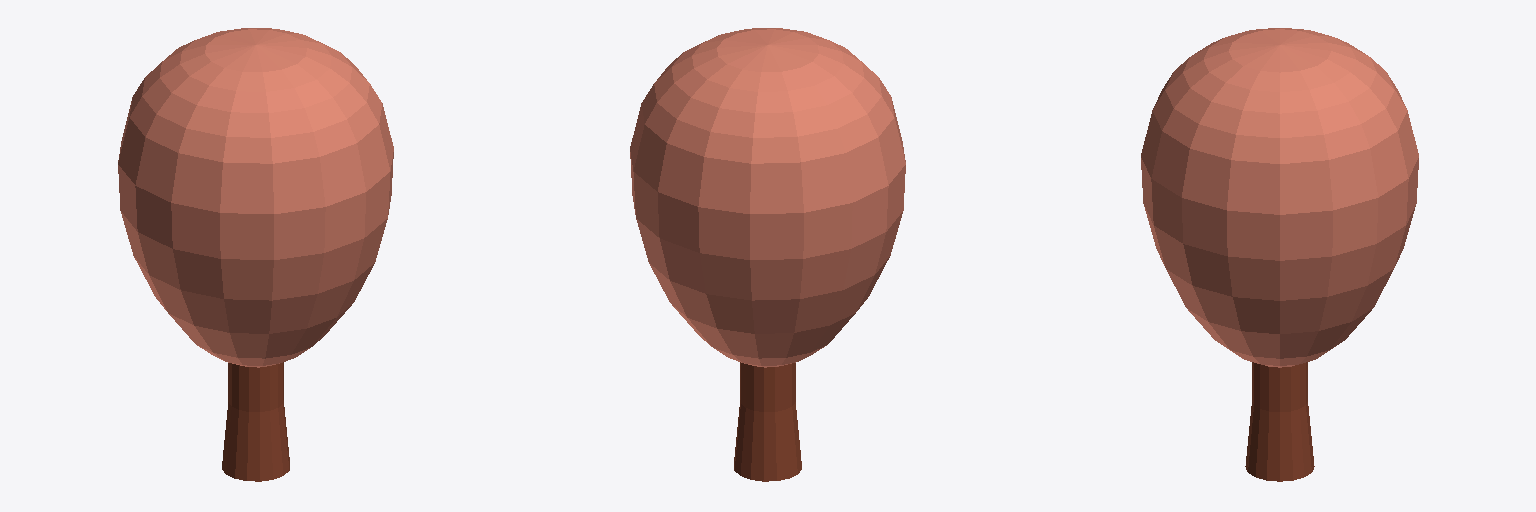
File: Prop_Tree_2.obj
3 views of the same model, side by side, from view 1: azimuth 30°, elevation 25°; view 2: azimuth 150°, elevation 25°; view 3: azimuth 270°, elevation 25° (orthographic).
Parts seen in each view (by area): view 1: Leaves, Trunk; view 2: Leaves, Trunk; view 3: Leaves, Trunk.
Part boxes in pixels (left/top/right/bottom): Leaves: left=118, top=28, right=393, bottom=367; Trunk: left=222, top=362, right=289, bottom=481; Leaves: left=630, top=28, right=905, bottom=367; Trunk: left=734, top=362, right=801, bottom=481; Leaves: left=1141, top=28, right=1418, bottom=367; Trunk: left=1245, top=362, right=1314, bottom=481.
Bounding box in the file's own units: 1.49 × 2.5 × 1.49.